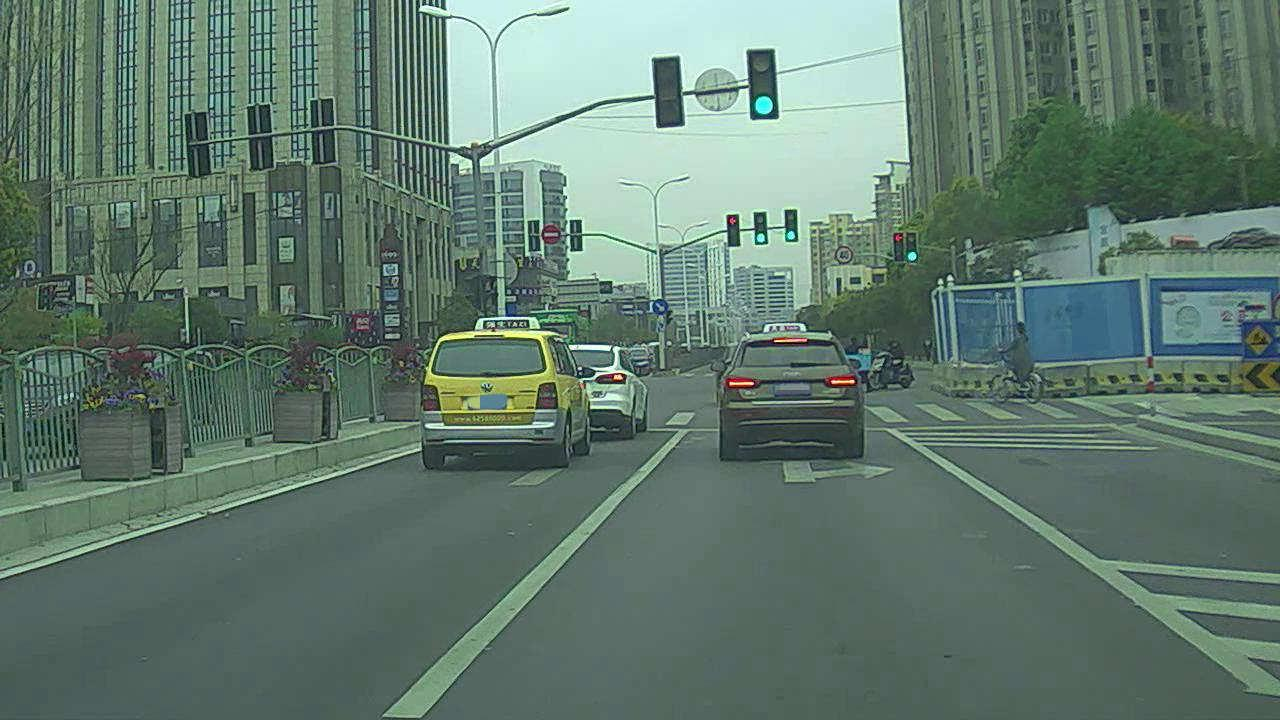traffic_light: (652, 56, 688, 129), (746, 48, 782, 118), (724, 212, 742, 247), (754, 208, 768, 245), (782, 210, 798, 242), (890, 230, 906, 259), (908, 228, 919, 264)
